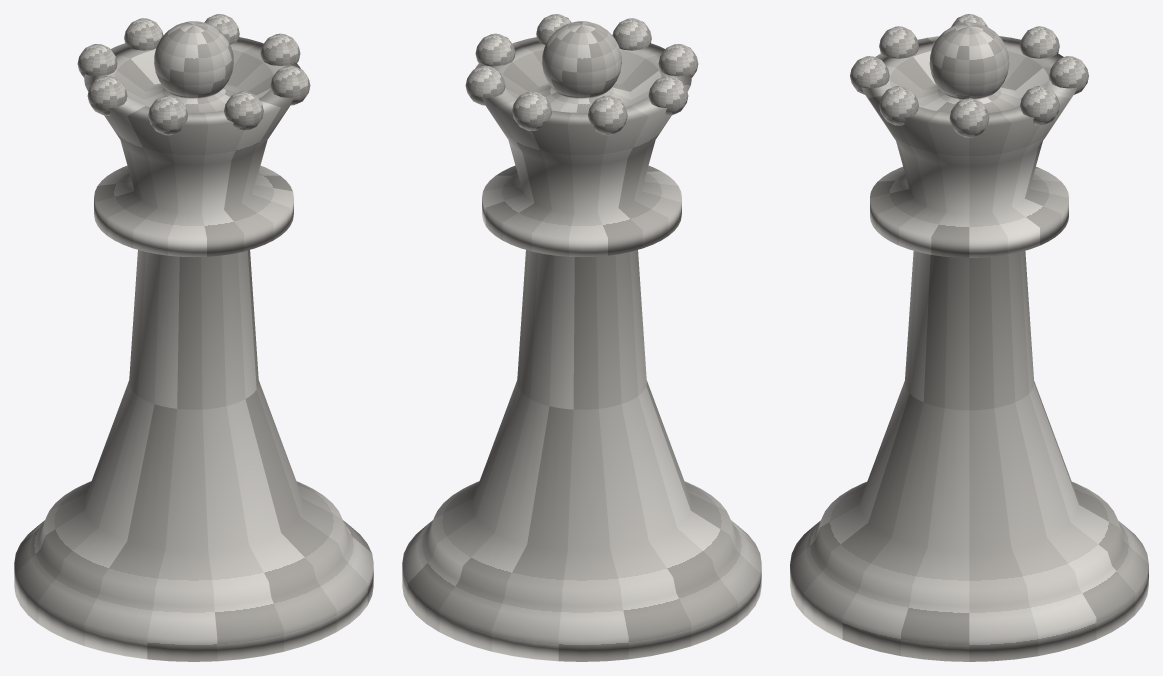
File: queen.glb
3 views of the same model, side by side, from view 1: azimuth 30°, elevation 25°; view 2: azimuth 150°, elevation 25°; view 3: azimuth 270°, elevation 25° (orthographic).
Visible parts, largest first — view 1: split-part (×2); view 2: split-part (×2); view 3: split-part (×2).
Boxes of the visible parts, box(x1,y1,x2,y2) form: split-part (×2): box(14, 14, 373, 661); split-part (×2): box(402, 14, 761, 661); split-part (×2): box(790, 14, 1148, 661).
Size of the model in its own units: 26.64 by 45.88 by 26.64.
Materials: 1 (1 with a texture image).
